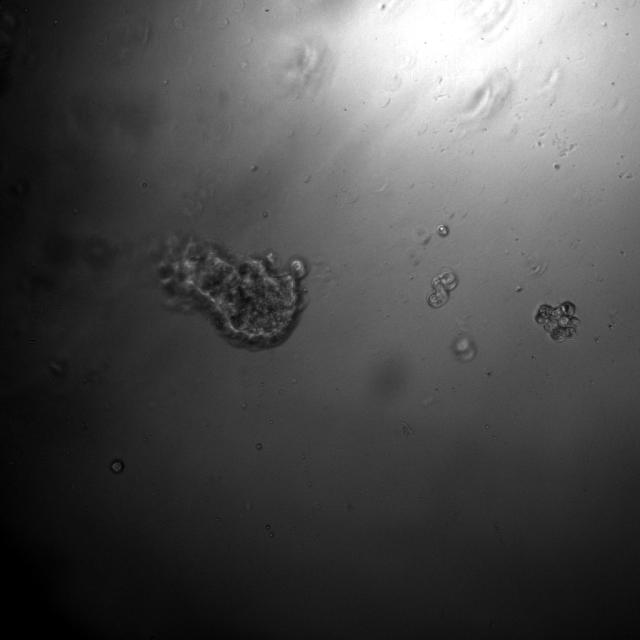organoid: (158, 239, 306, 348), (535, 301, 579, 342), (427, 269, 457, 308), (436, 223, 449, 237)
